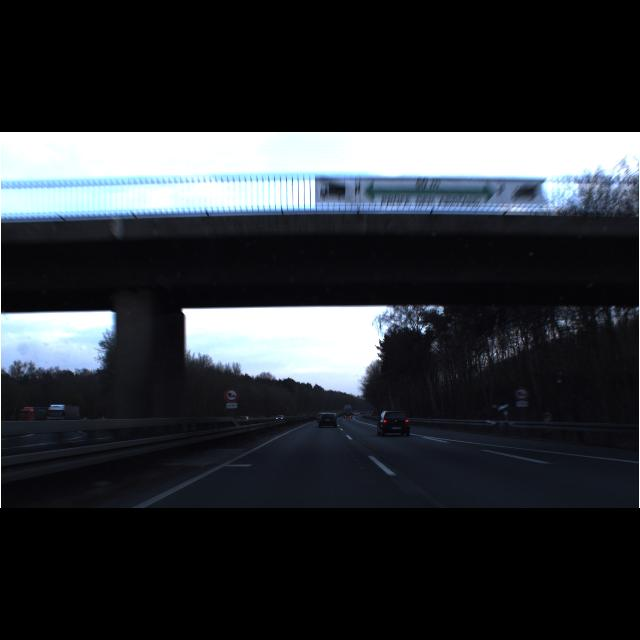prohibitory: (514, 387, 530, 401), (224, 388, 238, 402)
